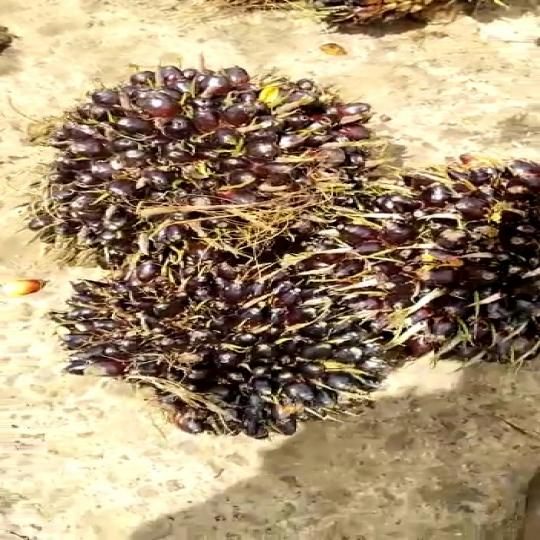mentah: (39, 256, 400, 432), (53, 58, 352, 268), (317, 152, 540, 364)
